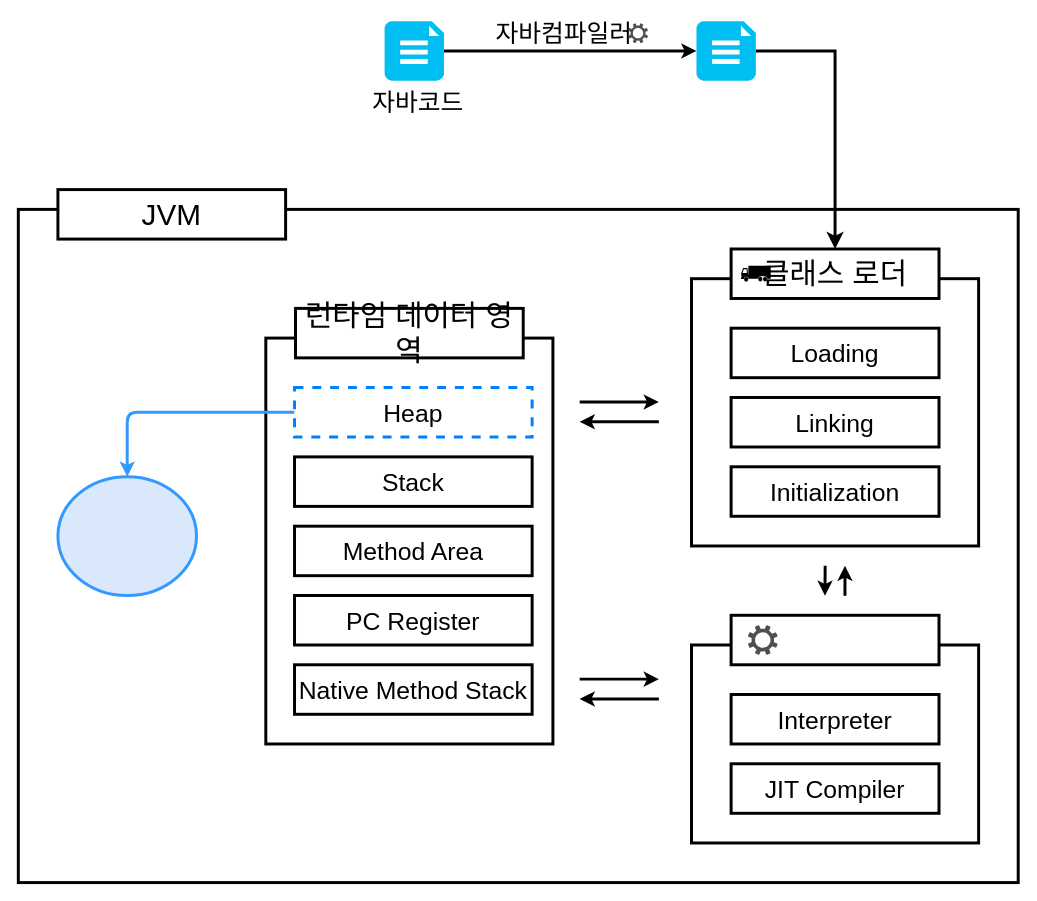
This 1037x901 diagram has some shape labels left out. Here are the shapes that lost their labels. From the top down, the box of each, then its label:
(696, 21, 755, 80): 바이트 코드( .class)
(56, 475, 198, 596): 가비지 컬렉터
(729, 613, 940, 666): 실행 엔진
